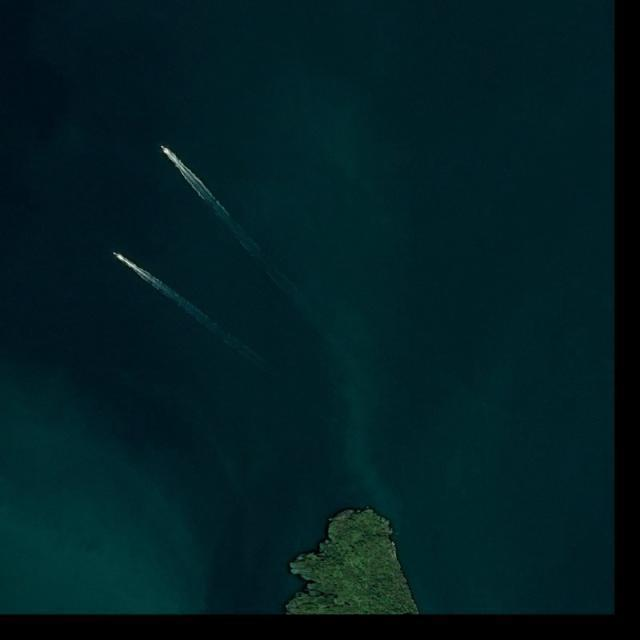ship: (159, 144, 168, 153), (111, 251, 122, 258)
